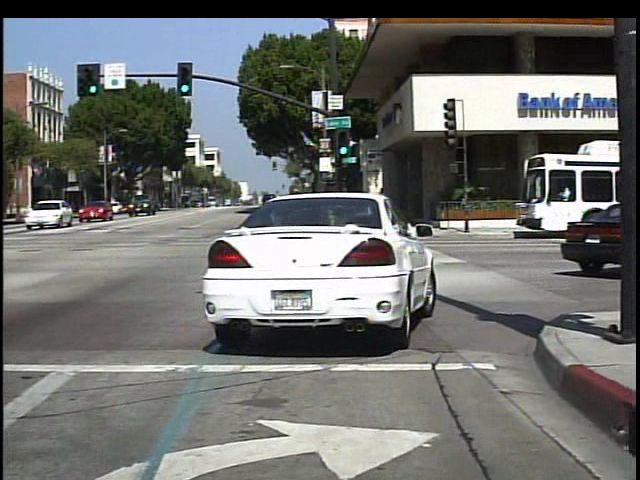person: (374, 183, 393, 224)
